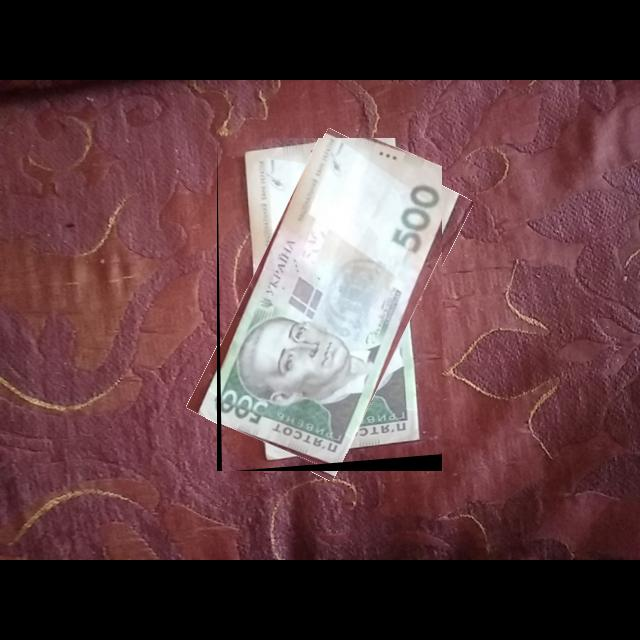500uah: (217, 138, 443, 472)
